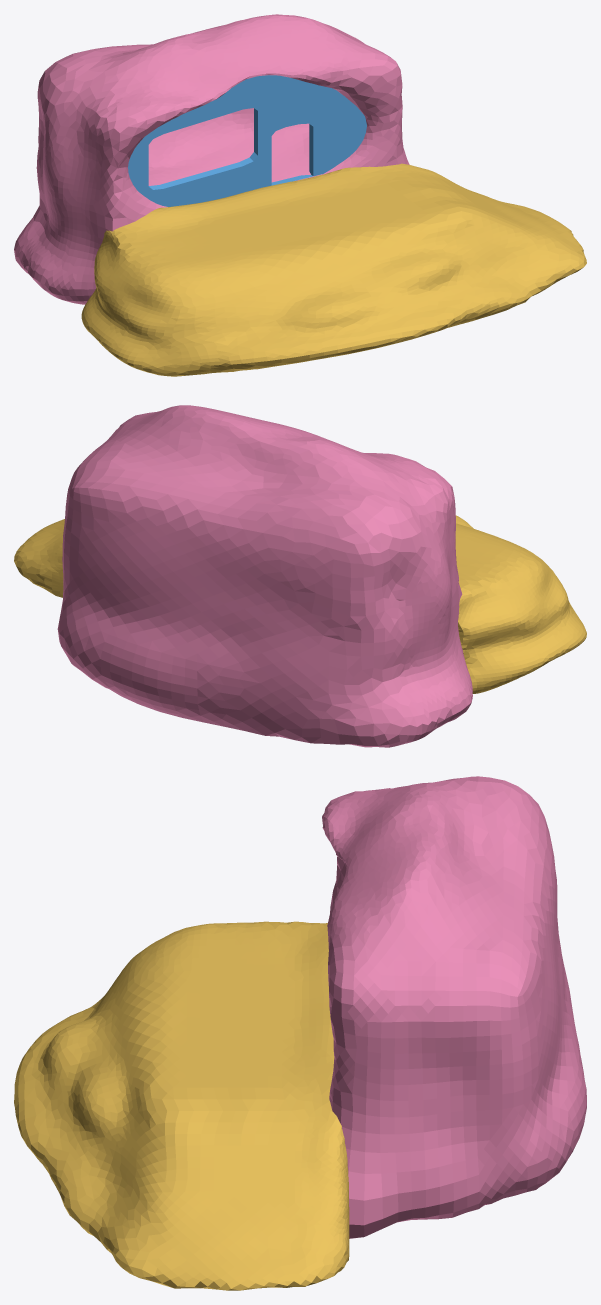
The model's file is slime house.fbx.
3 renders of one model, top to bottom at view 1: azimuth 30°, elevation 25°; view 2: azimuth 150°, elevation 25°; view 3: azimuth 270°, elevation 25°, orthographic. The views are drawn at different scales.
Visible parts, largest first — view 1: Cube.001, Cube, Cube.002; view 2: Cube, Cube.001; view 3: Cube, Cube.001.
Boxes of the visible parts, x1,y1,x2,y2 form: Cube.001: (81, 163, 586, 376); Cube: (14, 14, 409, 304); Cube.002: (128, 75, 366, 206); Cube: (57, 405, 472, 747); Cube.001: (14, 515, 586, 693); Cube: (322, 776, 586, 1238); Cube.001: (14, 921, 349, 1290).
Size of the model in its own units: 660 by 312 by 529.
